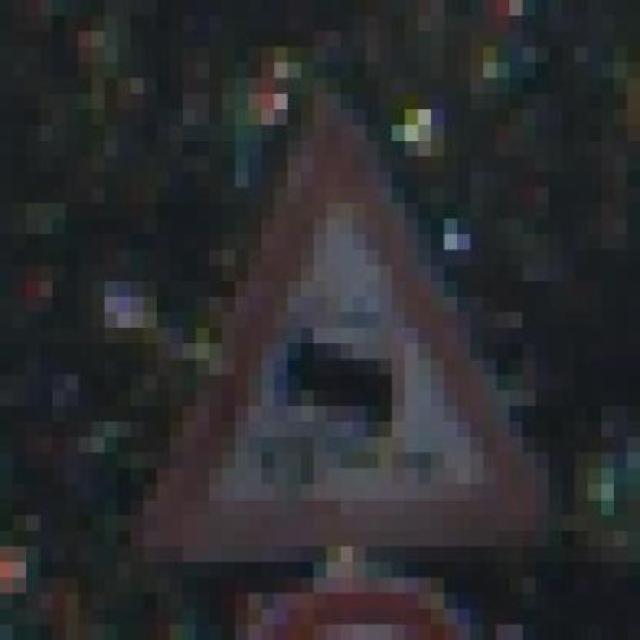Slippery Road Ahead: (143, 47, 562, 578)
